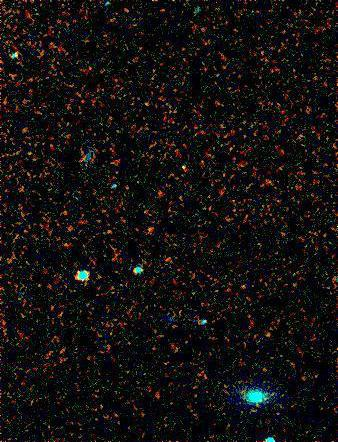star: (169, 151, 199, 181)
